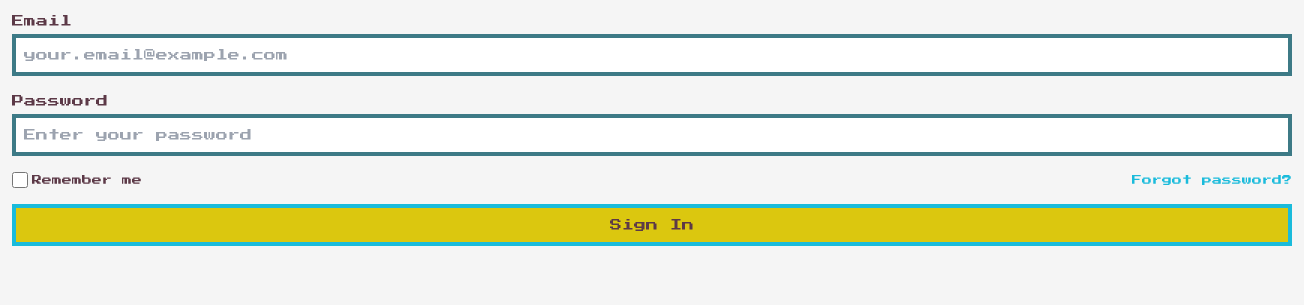
it: LoginForm › clears field error when user starts typing
Trigger email validation error
Click the button "Sign In" at (652, 225), box x1=12 y1=204 x2=1292 y2=246
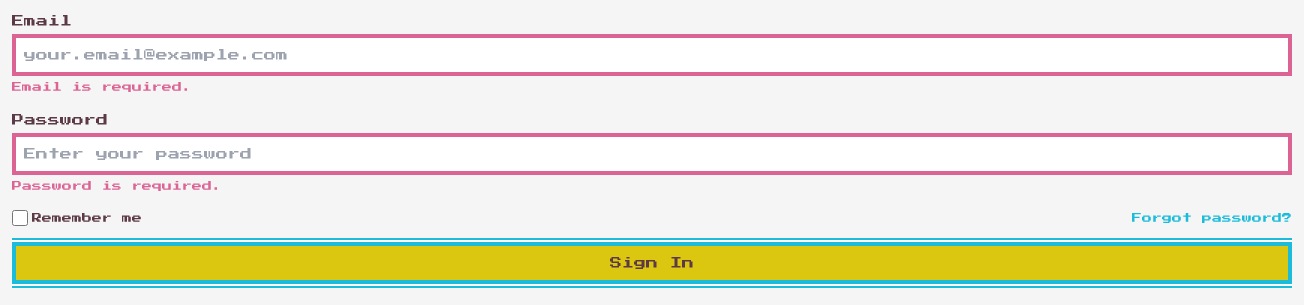
expect the text "Email is required." is shown: met, box x1=12 y1=82 x2=192 y2=92
Start typing in email field
Type "t" into the field labelled "Email" at (652, 55), box x1=12 y1=34 x2=1292 y2=76
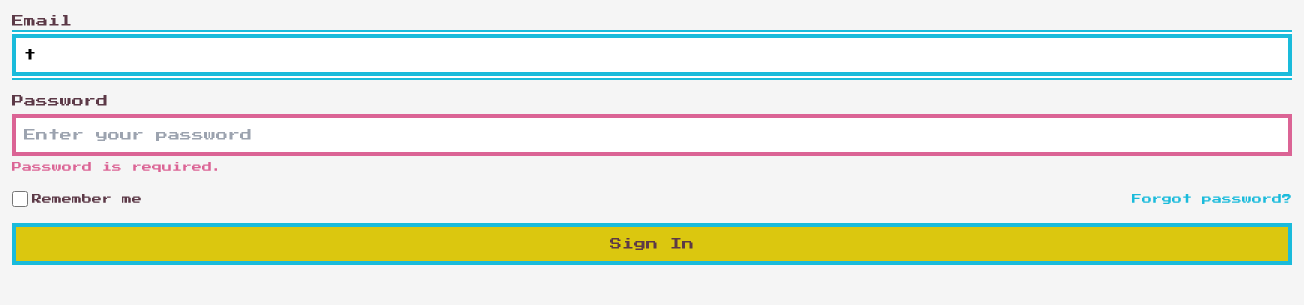
expect the text "Email is required" is gone: met
